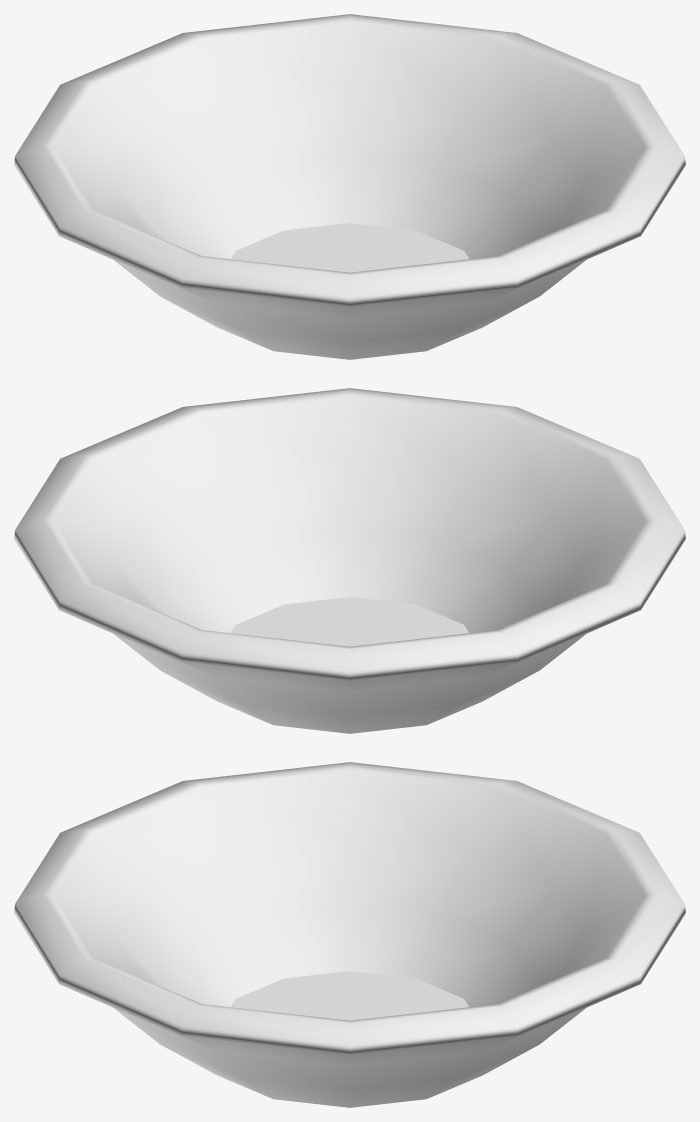
Rendered from prop_072.fbx.
3 views of the same model, one above another, from view 1: azimuth 30°, elevation 25°; view 2: azimuth 150°, elevation 25°; view 3: azimuth 270°, elevation 25° (orthographic).
Parts seen in each view (by area): view 1: prop_072; view 2: prop_072; view 3: prop_072.
Part boxes in pixels (left/top/right/bottom): prop_072: left=14, top=14, right=685, bottom=359; prop_072: left=14, top=388, right=685, bottom=733; prop_072: left=14, top=762, right=685, bottom=1107.
Bounding box in the file's own units: 43.51 × 43.51 × 10.63.
